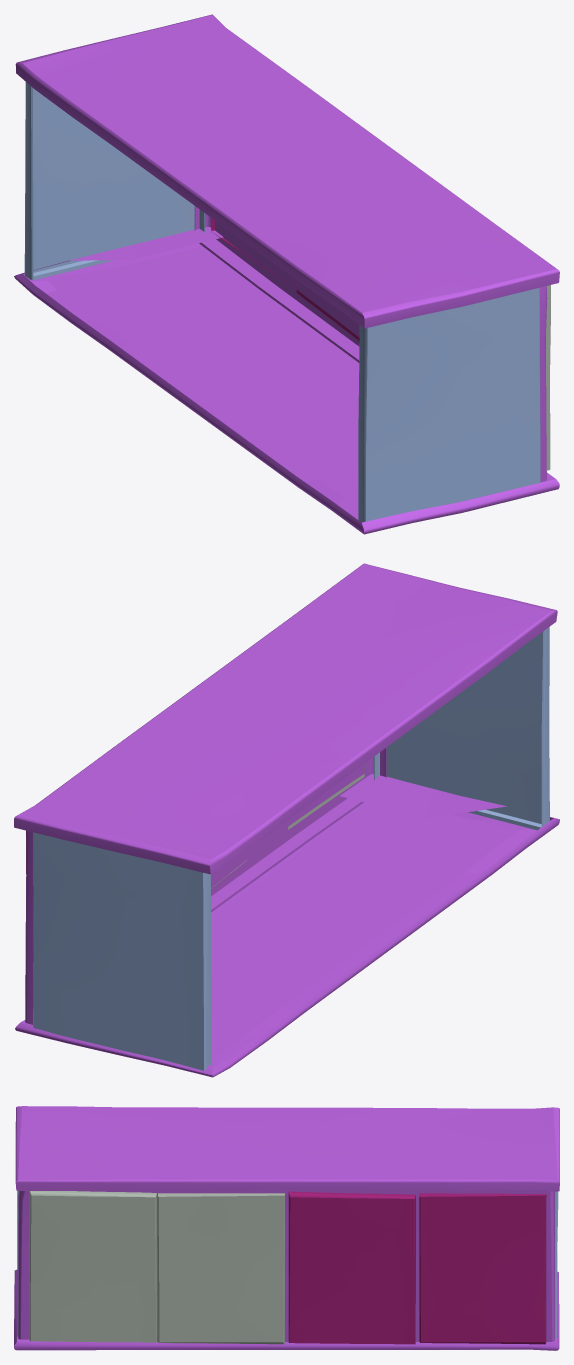
File: Friday_HangingKitchenCabinetts.fbx
3 views of the same model, one above another, from view 1: azimuth 30°, elevation 25°; view 2: azimuth 150°, elevation 25°; view 3: azimuth 270°, elevation 25° (orthographic). The views are drawn at different scales.
Parts seen in each view (by area): view 1: KitchenCabinet, Side1, Side, Cabinet_Doors; view 2: KitchenCabinet, Side, Side1; view 3: KitchenCabinet, Cabinet_Doors2, Cabinet_Doors, Side.
Boxes of the visible parts, x1,y1,x2,y2 form: KitchenCabinet: (14, 14, 559, 534); Side1: (358, 287, 540, 522); Side: (24, 82, 204, 280); Cabinet_Doors: (546, 285, 550, 470); KitchenCabinet: (14, 563, 559, 1077); Side: (33, 832, 211, 1070); Side1: (374, 627, 549, 830); KitchenCabinet: (14, 1106, 559, 1350); Cabinet_Doors2: (288, 1191, 546, 1344); Cabinet_Doors: (29, 1191, 284, 1344); Side: (555, 1191, 558, 1338).
Size of the model in its own units: 118 by 126 by 359.
